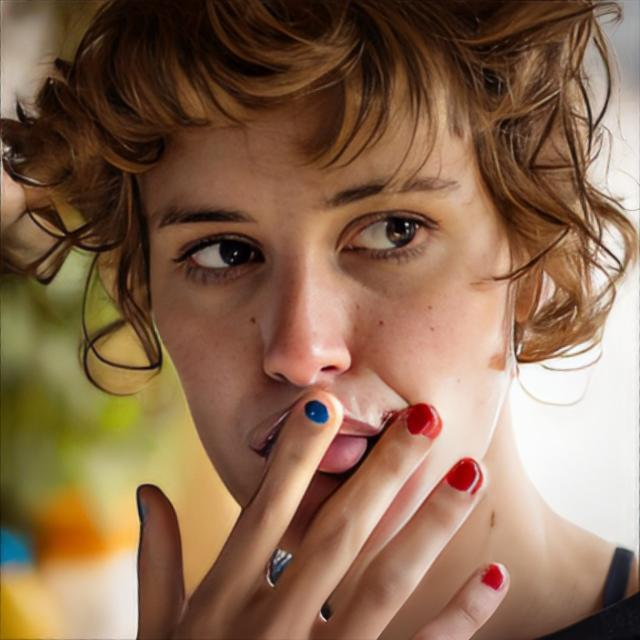neutral: (144, 46, 520, 559)
